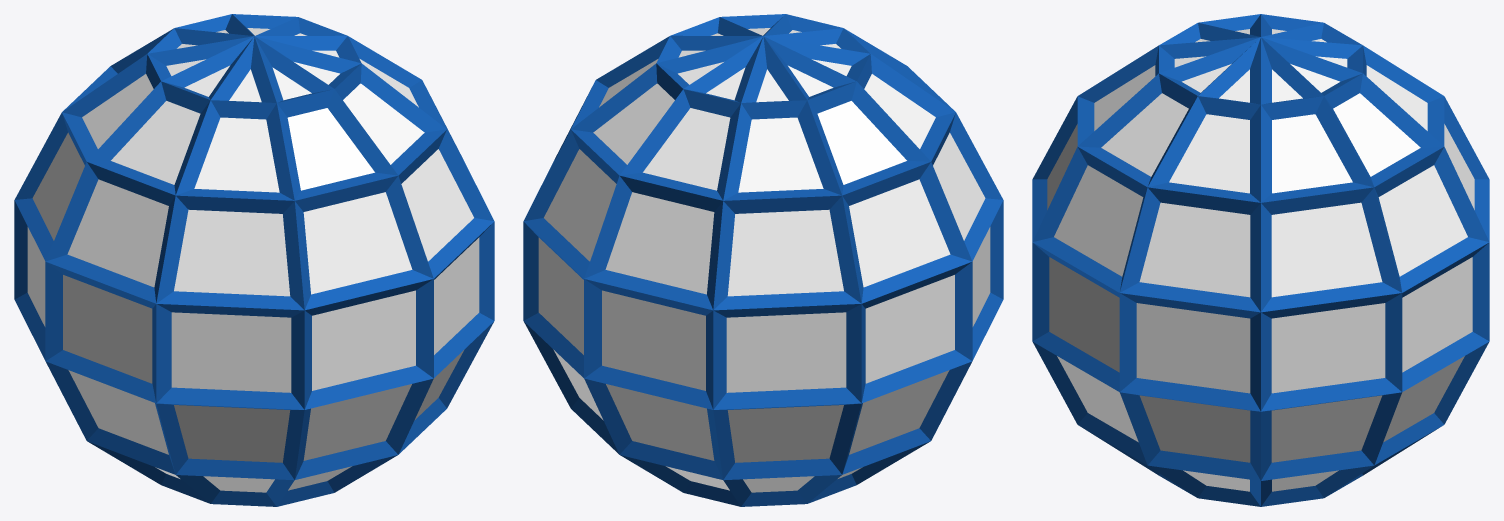
File: globe_with_meridians.gltf
The picture shows the model from 3 angles, left to right: view 1: azimuth 30°, elevation 25°; view 2: azimuth 150°, elevation 25°; view 3: azimuth 270°, elevation 25°; orthographic projection.
Parts seen in each view (by area): view 1: Sphere.395; view 2: Sphere.395; view 3: Sphere.395.
Boxes of the visible parts, x1,y1,x2,y2 form: Sphere.395: [14, 14, 494, 506]; Sphere.395: [523, 14, 1003, 506]; Sphere.395: [1032, 14, 1489, 506].
Bounding box in the file's own units: 2.04 × 2.09 × 1.94.
1 material, 1 textured.
